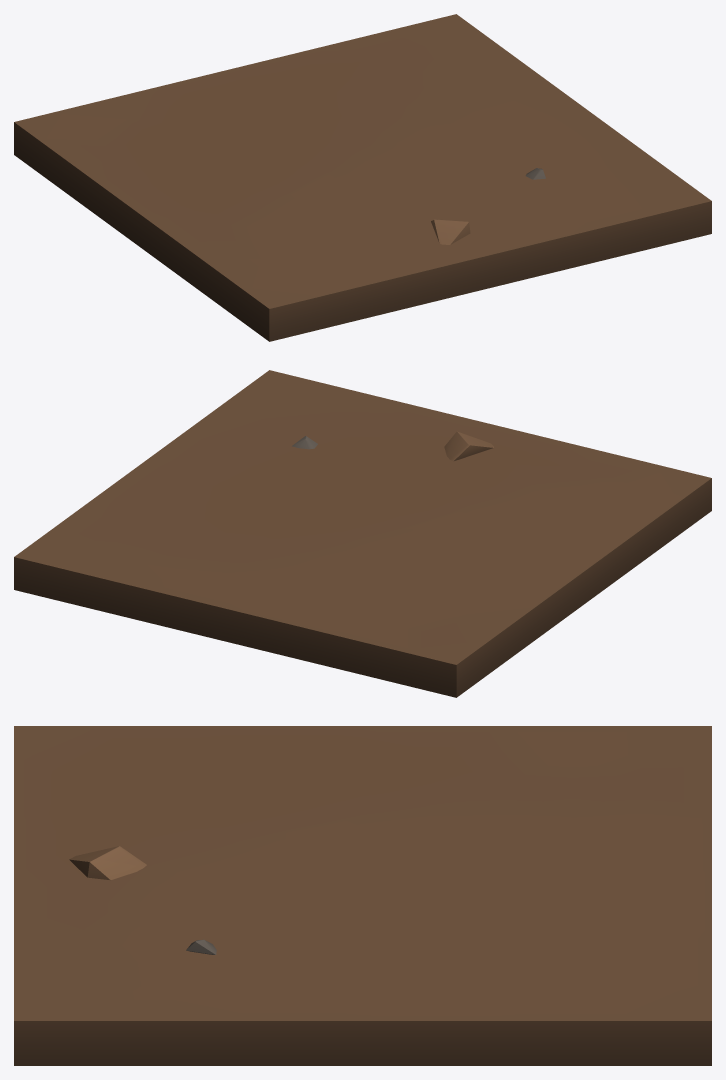
The model's file is floor_earth_small_A.glb.
The picture shows the model from 3 angles, top to bottom: view 1: azimuth 30°, elevation 25°; view 2: azimuth 150°, elevation 25°; view 3: azimuth 270°, elevation 25°; orthographic projection. The views are drawn at different scales.
Visible parts, largest first — view 1: Item; view 2: Item; view 3: Item.
Boxes of the visible parts, <box> form: Item: <box>14,14,711,341</box>; Item: <box>14,370,711,697</box>; Item: <box>14,726,711,1065</box>.
Size of the model in its own units: 2 by 0.1913 by 2.
Materials: 1 (1 with a texture image).
